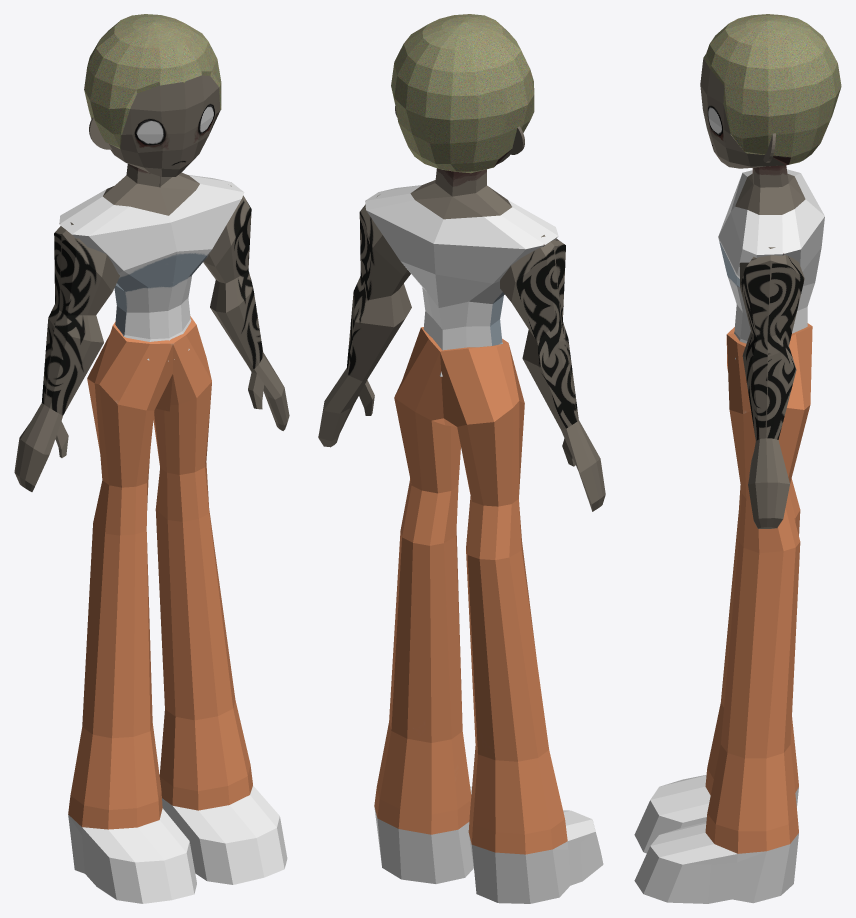
File: Arlo.fbx
3 views of the same model, side by side, from view 1: azimuth 30°, elevation 25°; view 2: azimuth 150°, elevation 25°; view 3: azimuth 270°, elevation 25° (orthographic). The views are drawn at different scales.
Visible parts, largest first — view 1: Cylinder, Torso.001, Torso, Head; view 2: Cylinder, Torso, Torso.001, Head; view 3: Cylinder, Head, Torso.001, Torso.
Part boxes in pixels (x1=…): Cylinder: x1=68, y1=316, x2=287, y2=903; Torso.001: x1=14, y1=185, x2=289, y2=491; Torso: x1=59, y1=164, x2=244, y2=361; Head: x1=84, y1=14, x2=221, y2=176; Cylinder: x1=374, y1=327, x2=603, y2=903; Torso: x1=365, y1=168, x2=558, y2=376; Torso.001: x1=318, y1=195, x2=605, y2=511; Head: x1=391, y1=14, x2=534, y2=173; Cylinder: x1=634, y1=323, x2=812, y2=903; Head: x1=700, y1=14, x2=841, y2=168; Torso.001: x1=739, y1=247, x2=804, y2=528; Torso: x1=718, y1=165, x2=824, y2=359.
Size of the model in its own units: 147 by 432 by 95.99.
Materials: 5 (5 with a texture image).
